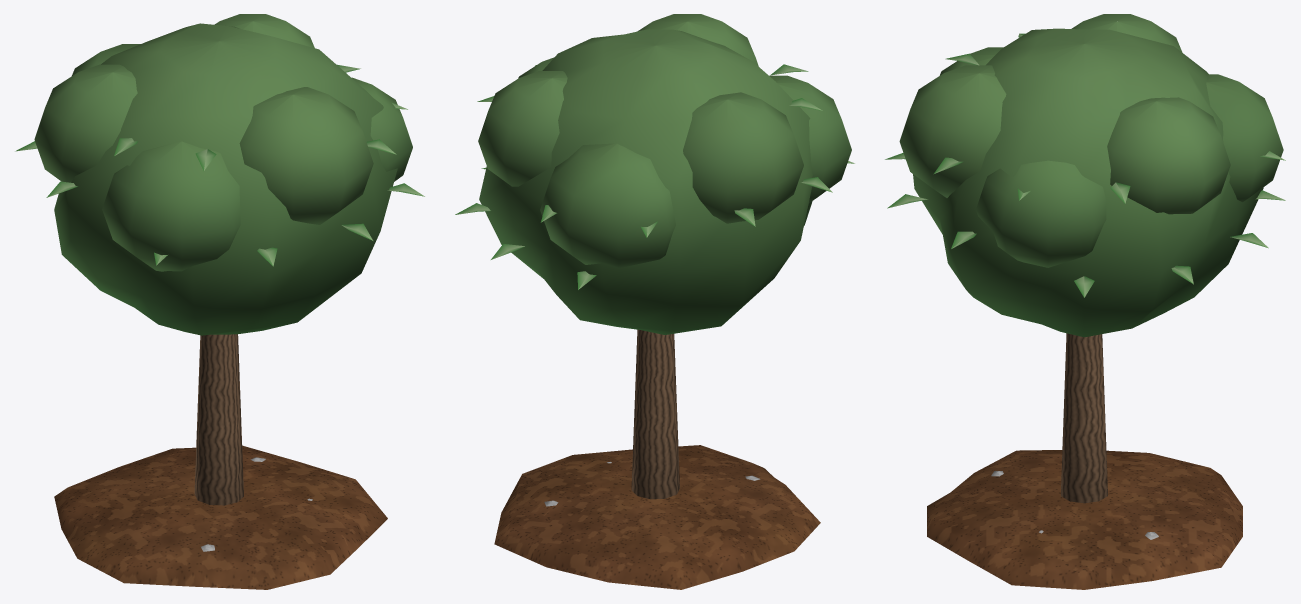
Rendered from plant-apple-2.glb.
3 views of the same model, side by side, from view 1: azimuth 30°, elevation 25°; view 2: azimuth 150°, elevation 25°; view 3: azimuth 270°, elevation 25° (orthographic). The views are drawn at different scales.
Parts seen in each view (by area): view 1: plant-apple-2; view 2: plant-apple-2; view 3: plant-apple-2.
Part boxes in pixels (left/top/right/bottom): plant-apple-2: left=15, top=14, right=424, bottom=589; plant-apple-2: left=455, top=14, right=854, bottom=589; plant-apple-2: left=885, top=14, right=1285, bottom=589.
Size of the model in its own units: 1.25 by 1.62 by 1.24.
Materials: 5 (3 with a texture image).
